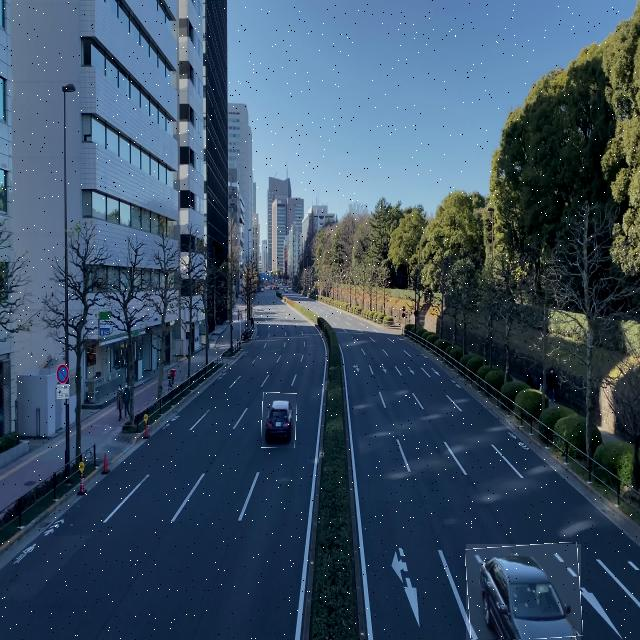Car: (466, 544, 581, 640), (262, 393, 296, 448)
